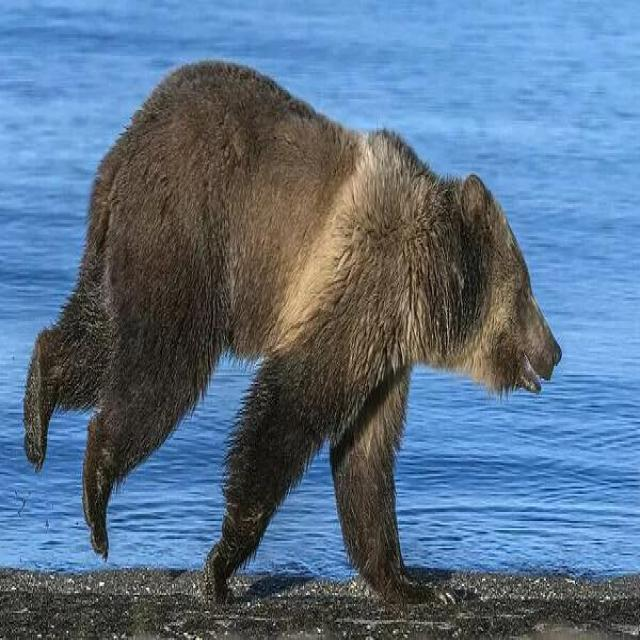Bear: (22, 59, 563, 608)
